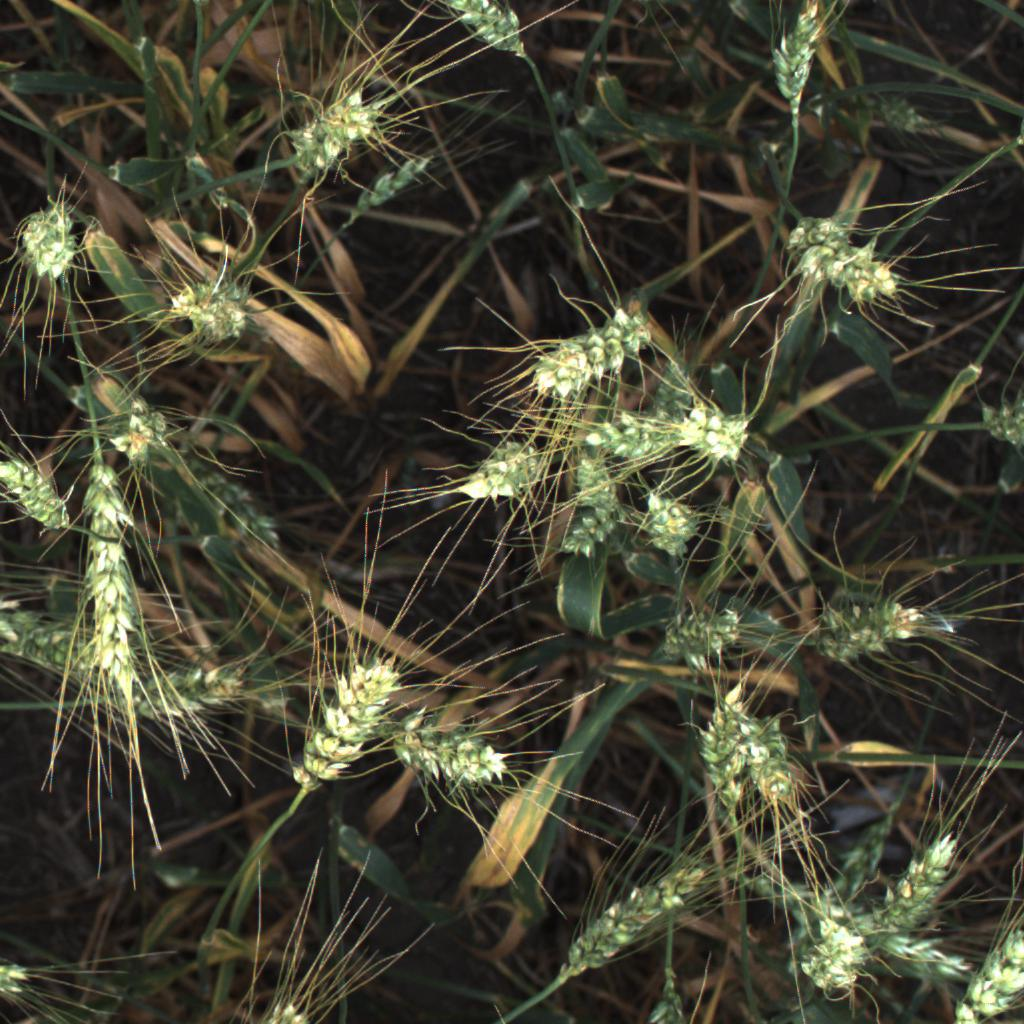0-0: (747, 875, 966, 976), (72, 448, 142, 731), (554, 859, 713, 983), (290, 649, 402, 799), (512, 296, 661, 403), (778, 202, 916, 312), (0, 585, 130, 686), (277, 77, 393, 184), (384, 713, 525, 791), (161, 259, 271, 355), (109, 657, 256, 728), (878, 822, 971, 932), (809, 595, 938, 669), (646, 592, 759, 675), (444, 427, 551, 514), (680, 695, 755, 814), (187, 462, 281, 553), (734, 704, 808, 819), (8, 191, 91, 291), (343, 144, 445, 225), (761, 0, 834, 113), (664, 394, 758, 468), (0, 448, 76, 537), (431, 0, 540, 62), (800, 909, 874, 1000), (574, 411, 692, 466), (101, 393, 179, 463), (557, 493, 631, 564), (639, 490, 710, 558), (560, 449, 623, 517), (635, 959, 697, 1024), (971, 385, 1024, 457), (865, 91, 934, 136), (252, 990, 324, 1024), (0, 951, 38, 1004)
